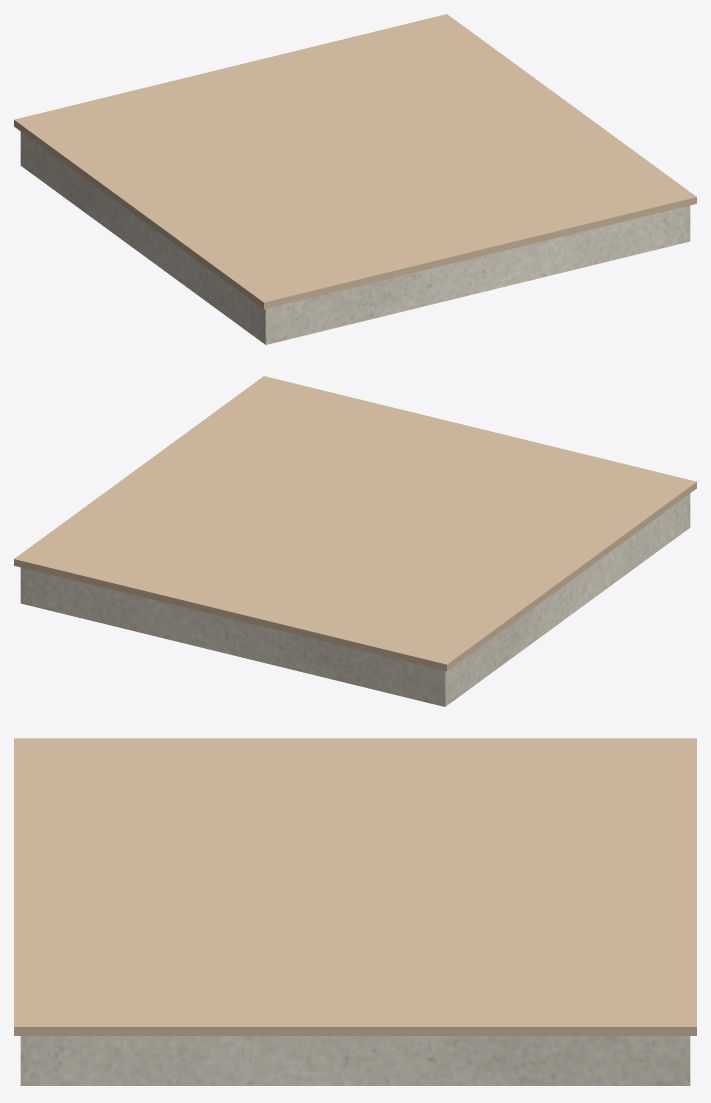
Rendered from floor_tile.glb.
The picture shows the model from 3 angles, top to bottom: view 1: azimuth 30°, elevation 25°; view 2: azimuth 150°, elevation 25°; view 3: azimuth 270°, elevation 25°; orthographic projection. The views are drawn at different scales.
Visible parts, largest first — view 1: floor_tile_floor, floor_tile_plaster; view 2: floor_tile_floor, floor_tile_plaster; view 3: floor_tile_floor, floor_tile_plaster.
Part boxes in pixels (x1=…): floor_tile_floor: x1=14, y1=14, x2=696, y2=309; floor_tile_plaster: x1=20, y1=131, x2=690, y2=344; floor_tile_floor: x1=14, y1=376, x2=696, y2=671; floor_tile_plaster: x1=20, y1=493, x2=690, y2=706; floor_tile_floor: x1=14, y1=738, x2=696, y2=1035; floor_tile_plaster: x1=20, y1=1036, x2=690, y2=1085.
Size of the model in its own units: 2 by 0.2 by 2.
2 materials, 1 textured.
